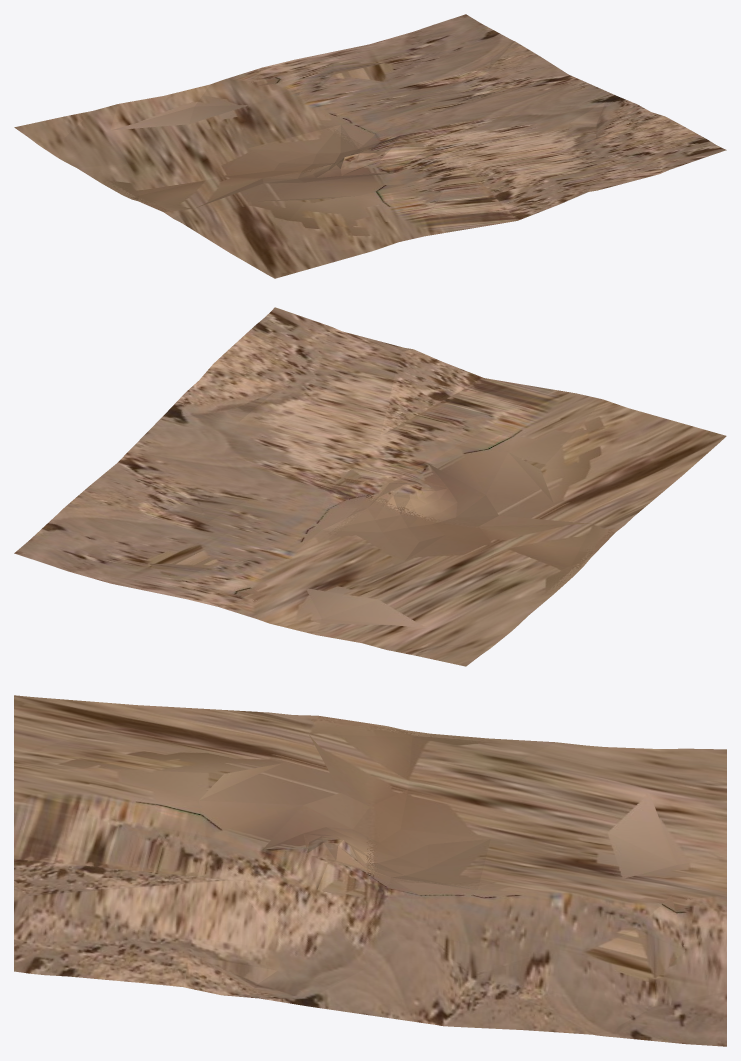
3 views of the same model, one above another, from view 1: azimuth 30°, elevation 25°; view 2: azimuth 150°, elevation 25°; view 3: azimuth 270°, elevation 25° (orthographic). The views are drawn at different scales.
Size of the model in its own units: 2.09 by 0.2801 by 2.09.
Materials: 2 (2 with a texture image).
